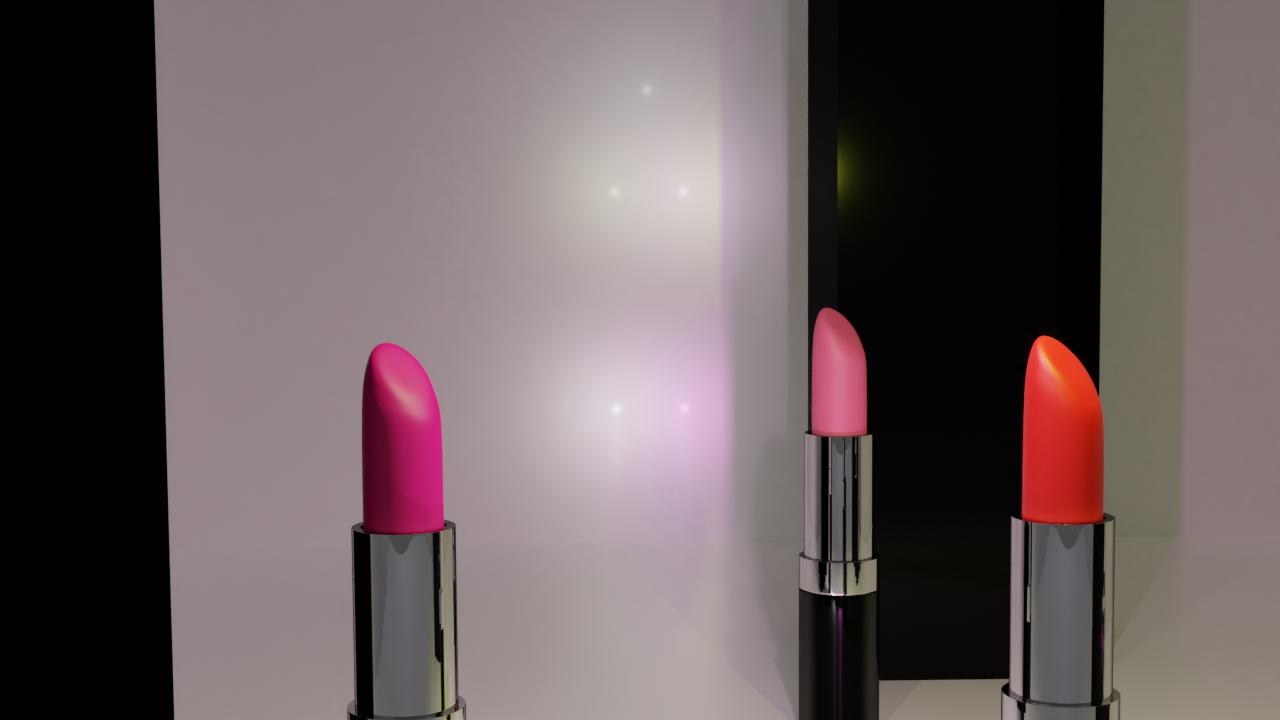CLASSIFIER_NAME: (996, 328, 1123, 720), (345, 335, 472, 720), (797, 302, 881, 720)
